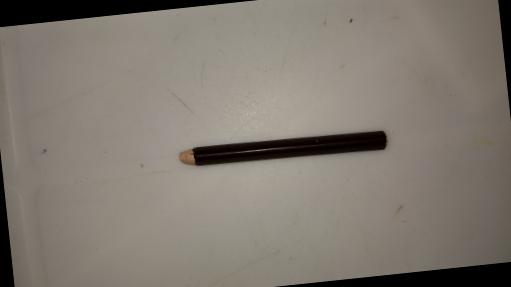Pencil: (178, 125, 389, 170)
